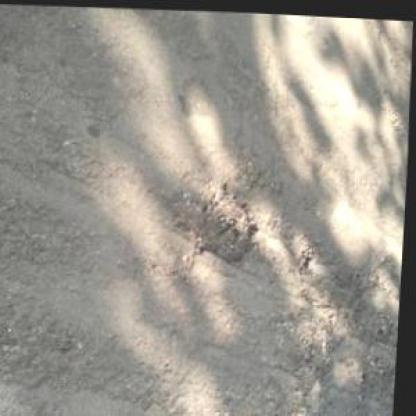pothole: (175, 175, 259, 266)
